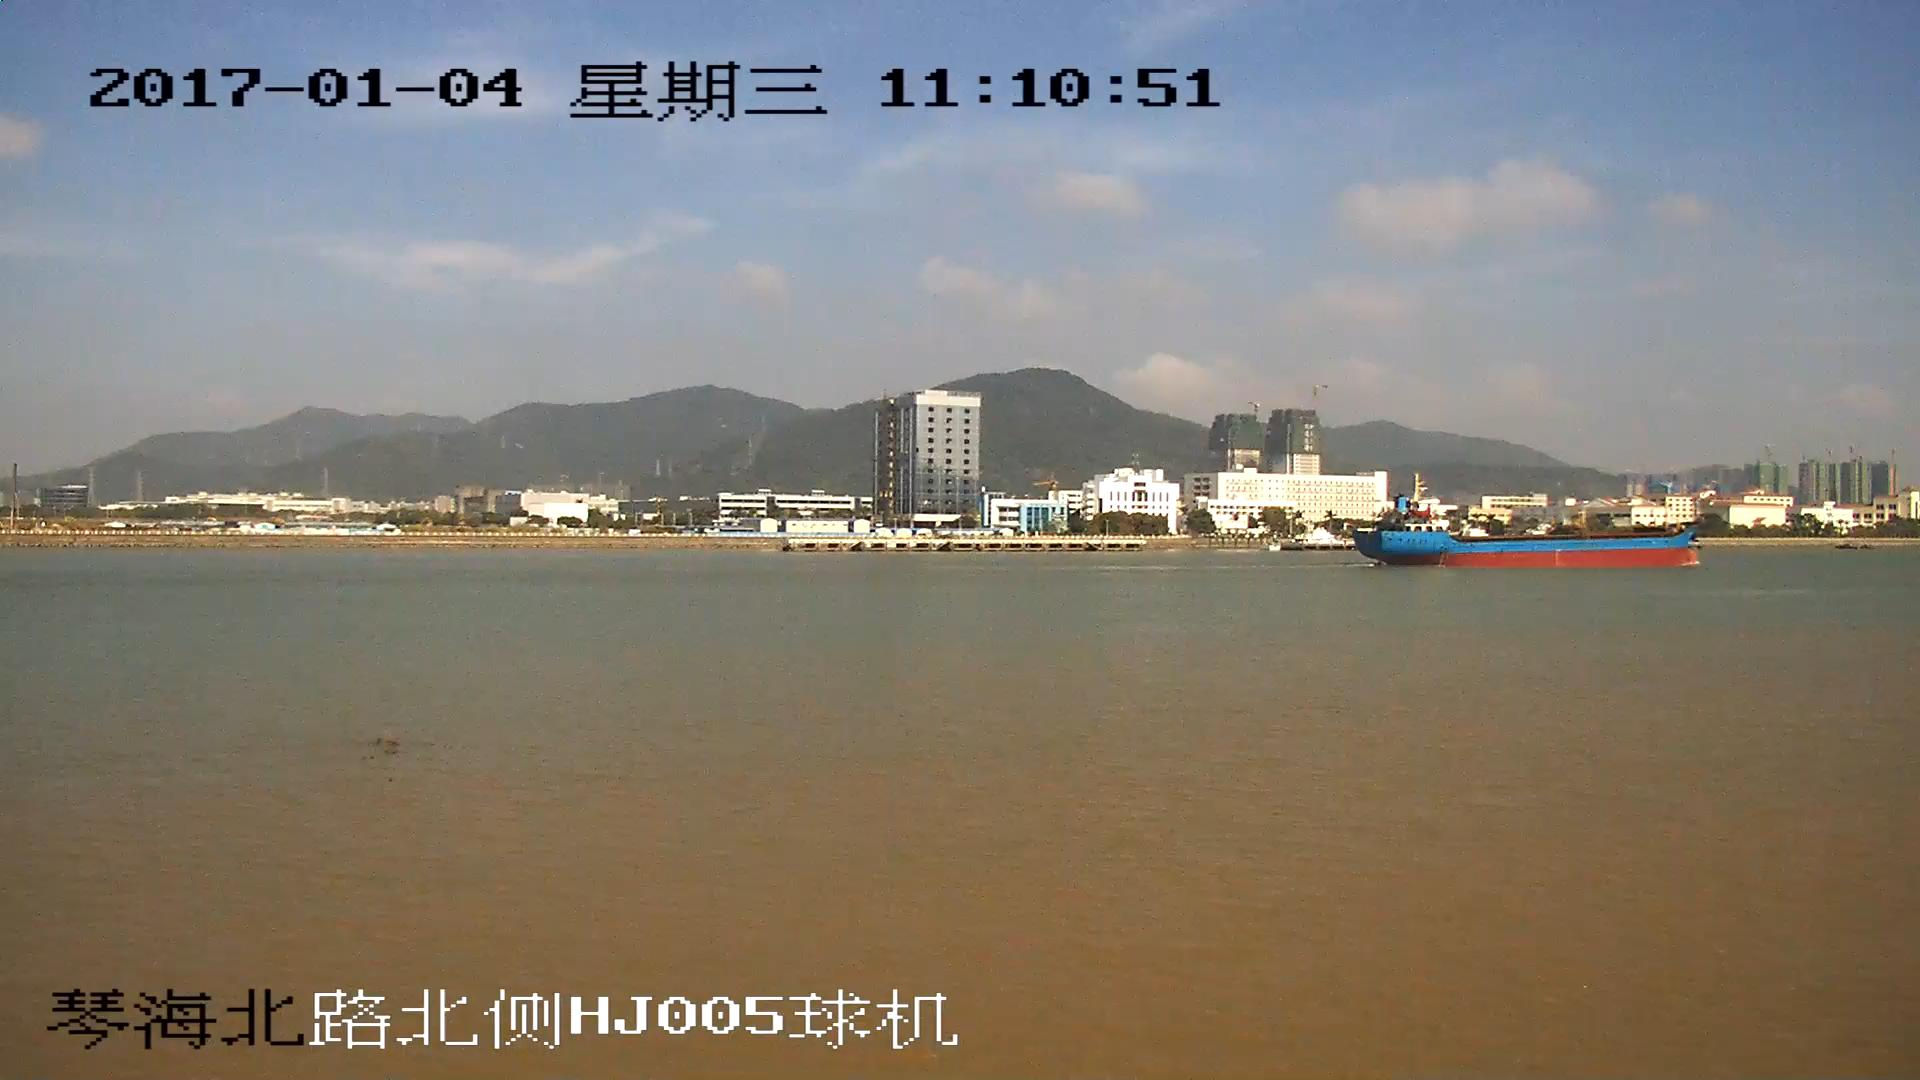general cargo ship: (1360, 488, 1704, 570)
